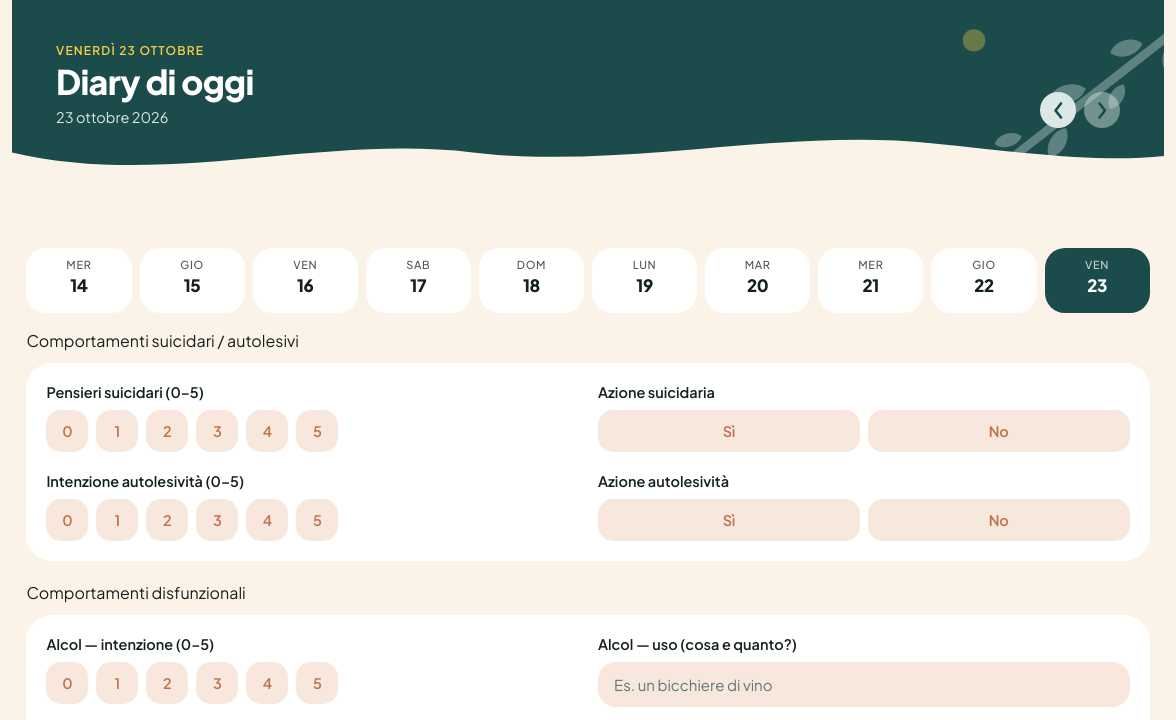
Test: PaginaDiario › cambiando giorno salva prima le modifiche e mostra l'altro giorno
Click the button "2" below "Pensieri suicidari (0–5)": (167, 431) [146,410,188,452]
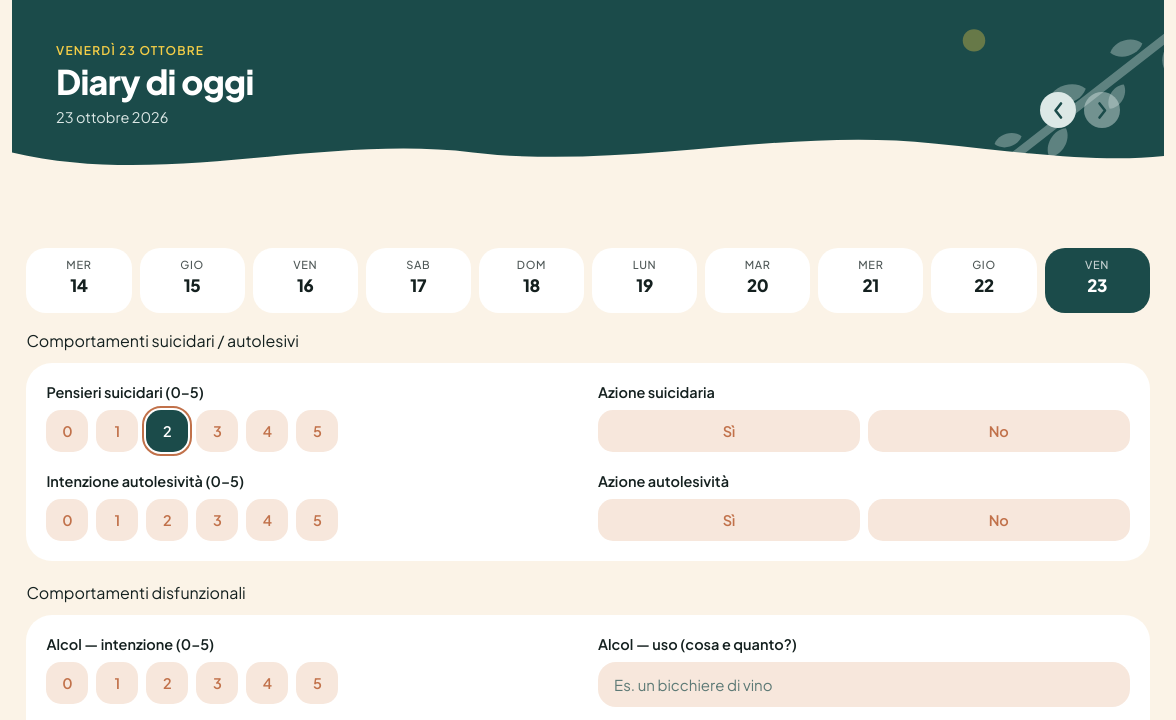
Click the button named "Giorno precedente": (1058, 110) [1040,92,1076,128]
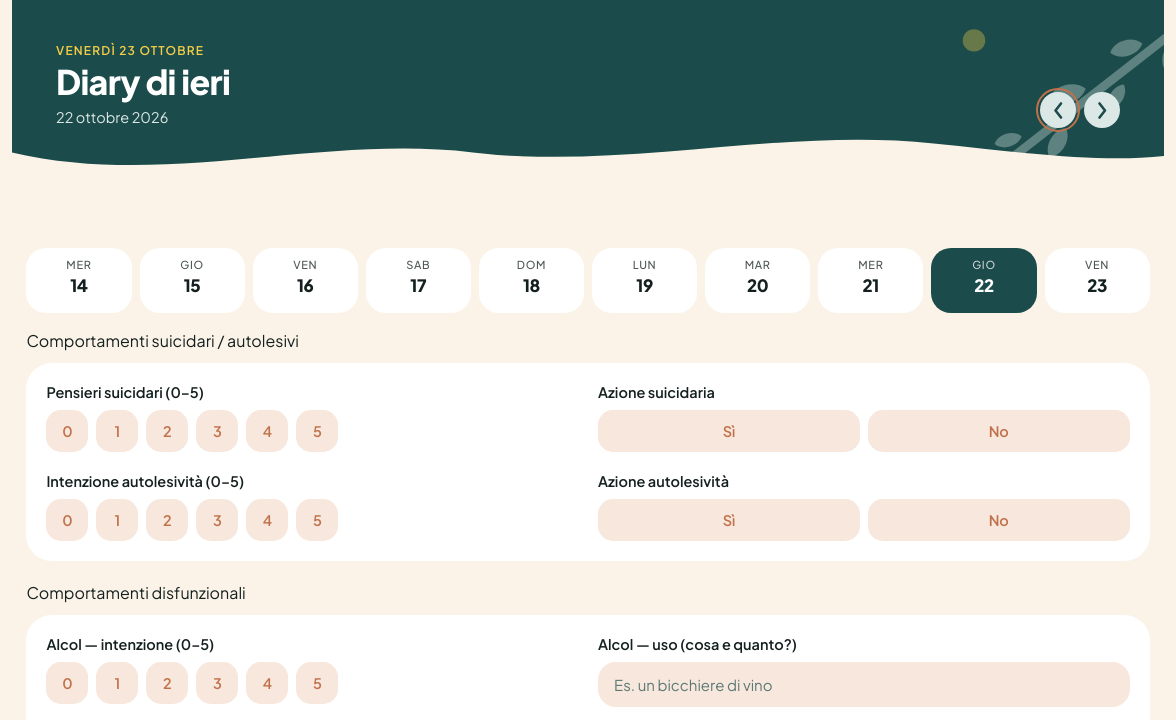
Now the heading "Diary di ieri" is shown, box [56,60,230,103]
